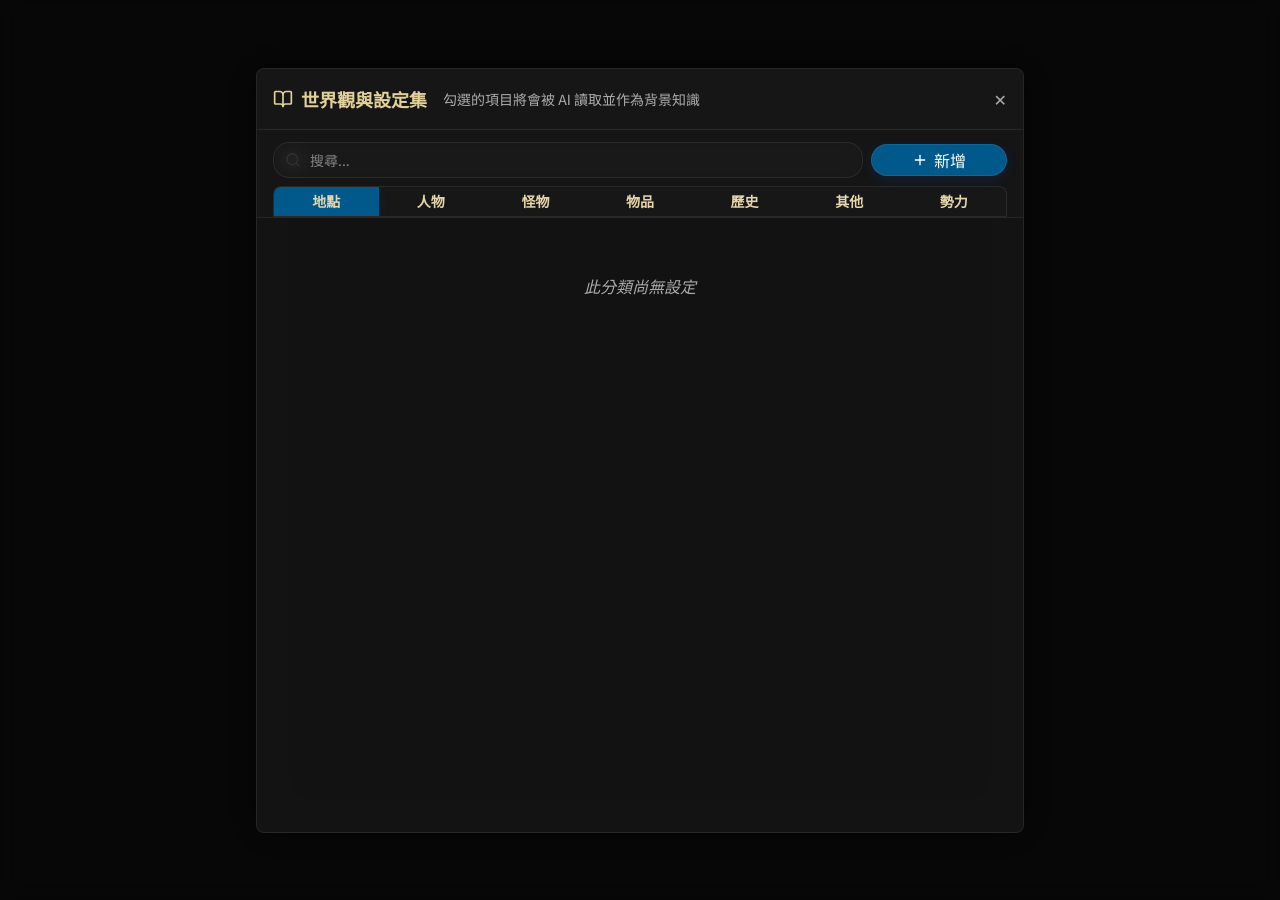
it: LorebookModal 勢力敵友關係 › 關係備註會顯示出來
Click the button "勢力" at (954,201), box [902,186,1006,216]
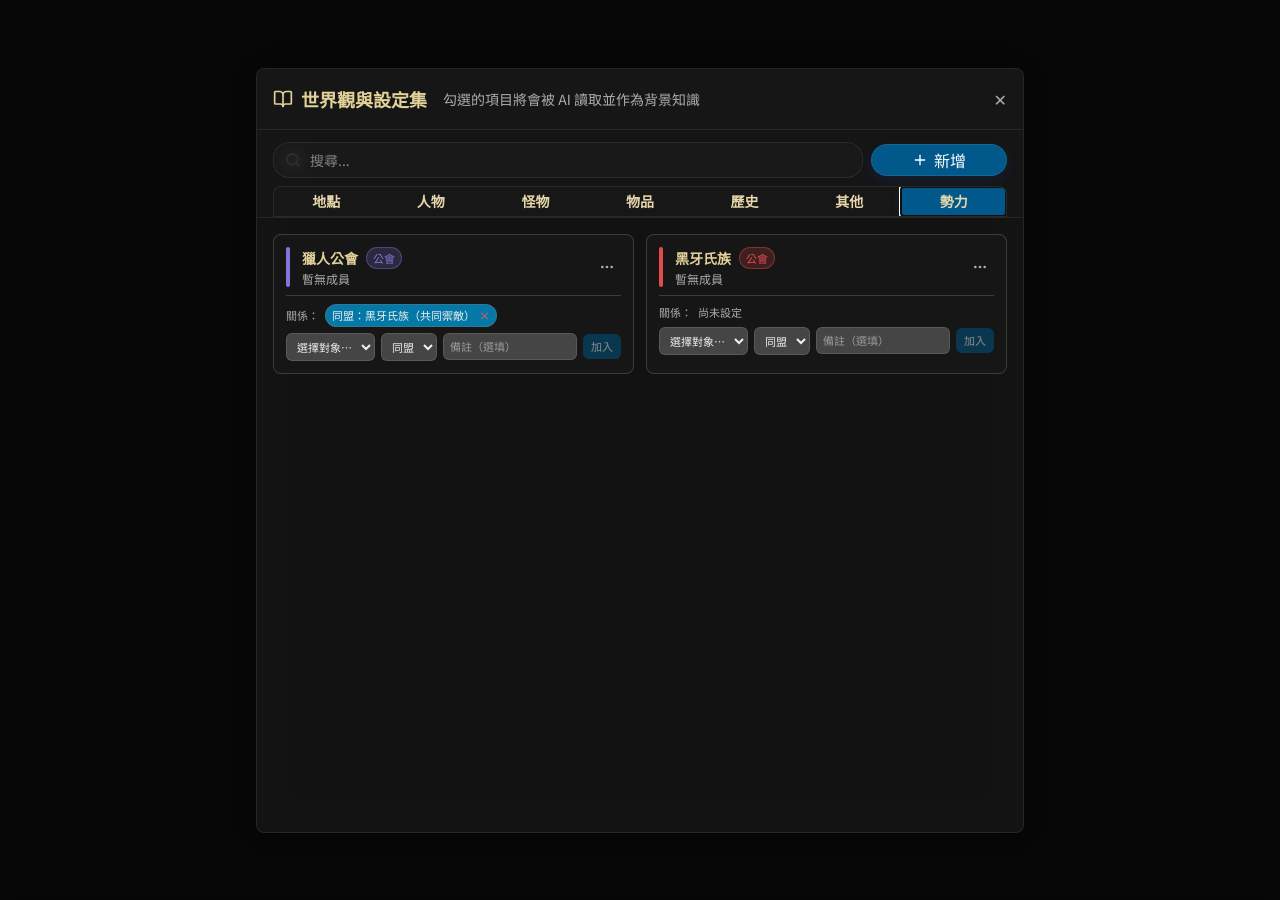
expect the text "同盟：黑牙氏族（共同禦敵） ×" is shown: met, box [325,304,497,326]
